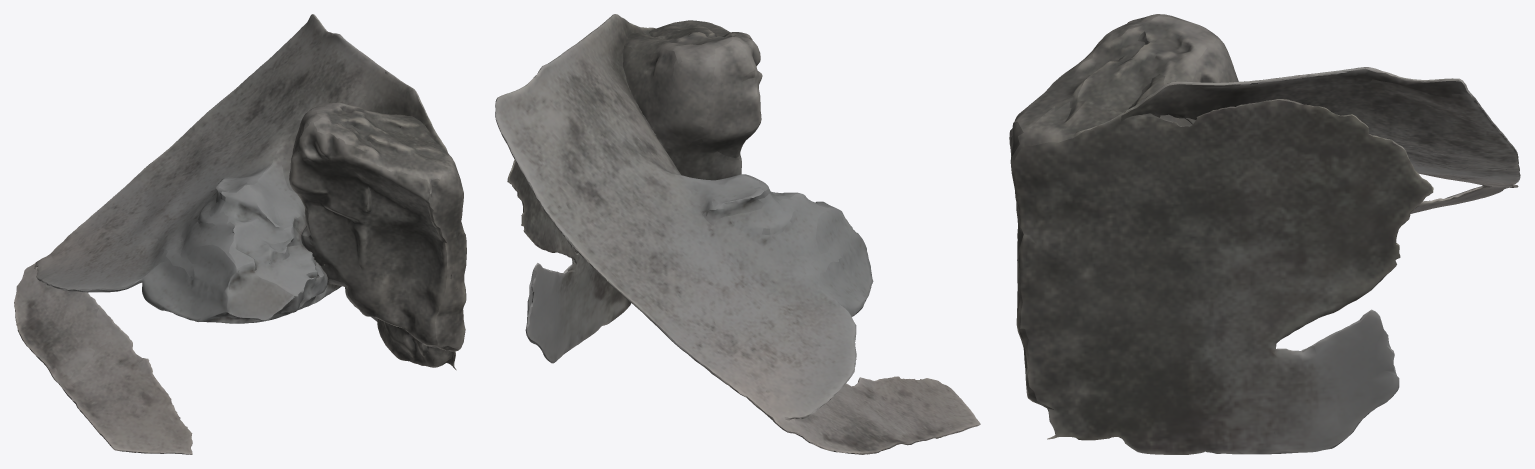
The picture shows the model from 3 angles, left to right: view 1: azimuth 30°, elevation 25°; view 2: azimuth 150°, elevation 25°; view 3: azimuth 270°, elevation 25°; orthographic projection. The views are drawn at different scales.
Visible parts, largest first — view 1: world; view 2: world; view 3: world.
Part boxes in pixels (<box>): world: <box>14,14,466,454</box>; world: <box>495,14,980,454</box>; world: <box>1009,14,1520,454</box>.
Size of the model in its own units: 5 by 4.48 by 5.
Materials: 1 (1 with a texture image).
